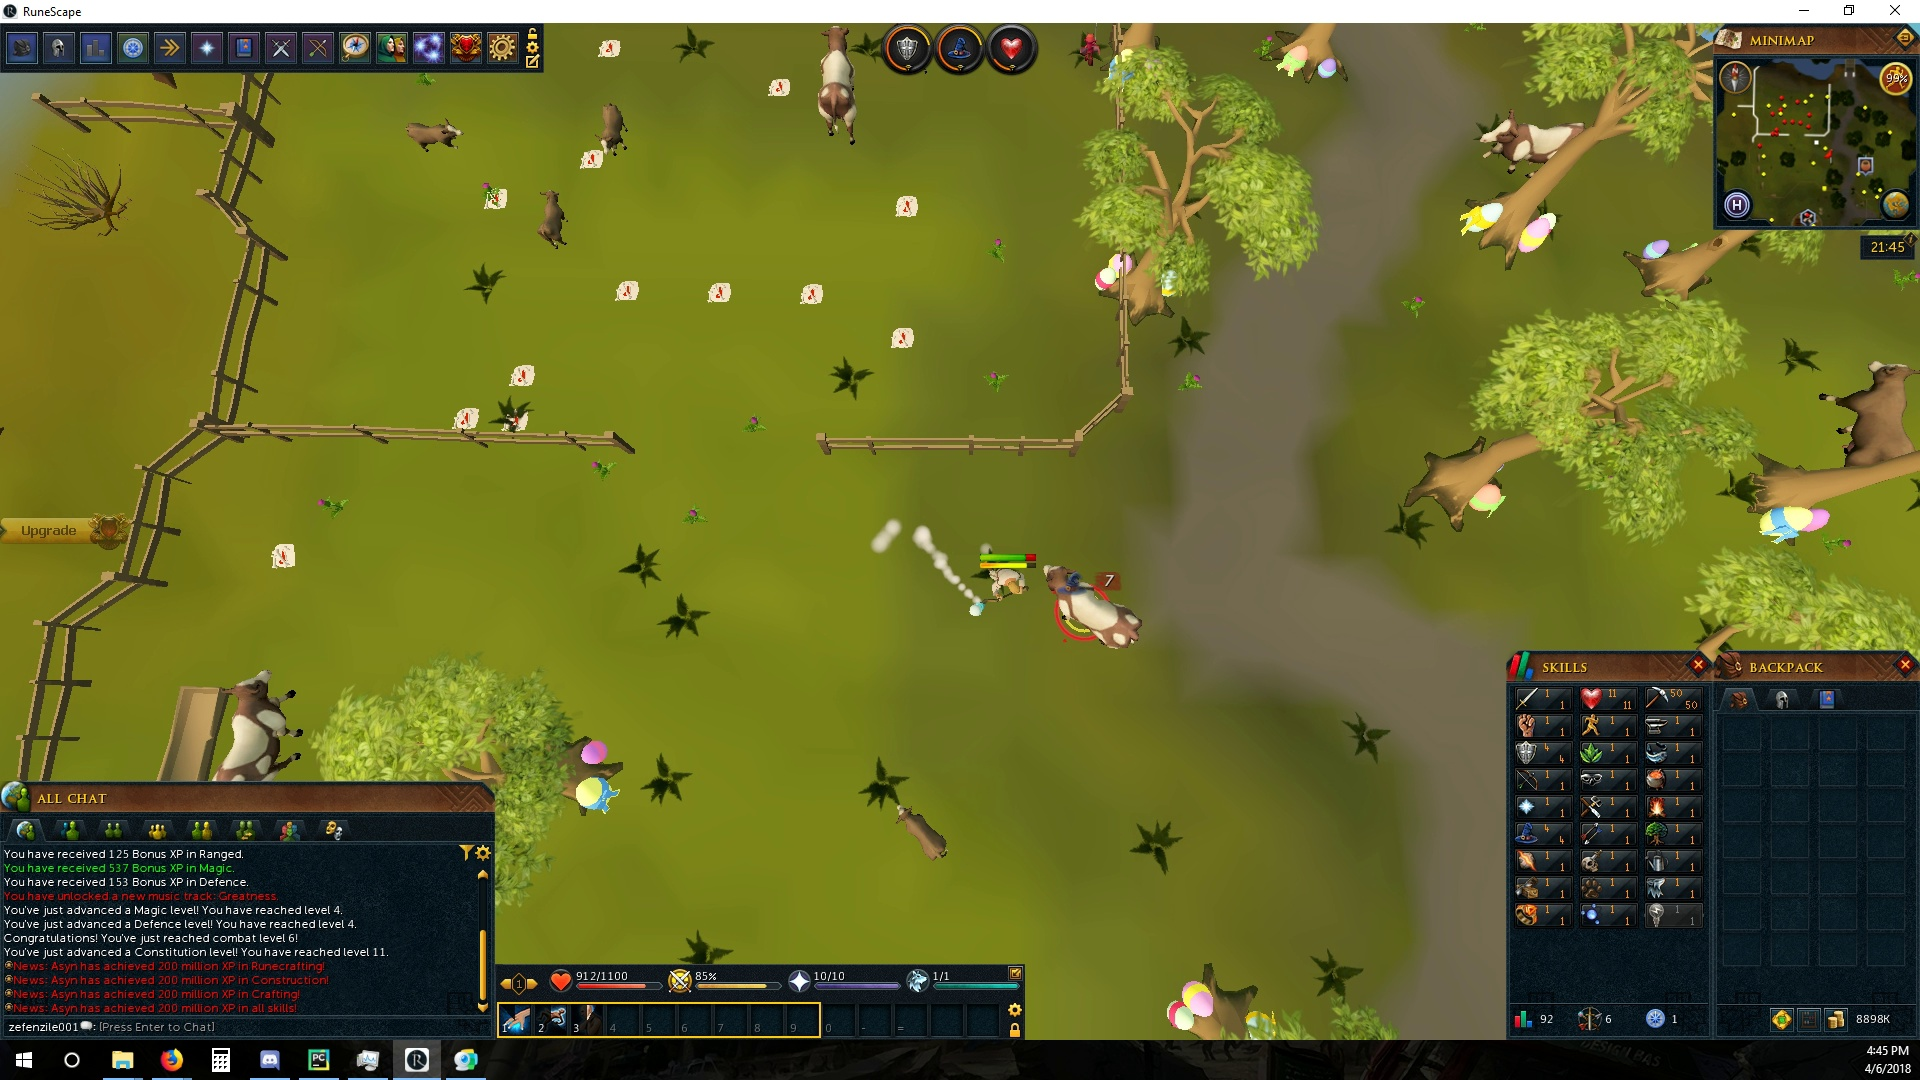calf: (890, 800, 953, 862), (591, 98, 632, 160), (537, 187, 574, 253), (402, 117, 465, 156)
cow: (204, 669, 306, 786), (1812, 357, 1920, 465), (1039, 560, 1150, 657), (1470, 105, 1594, 182), (814, 26, 865, 153)
cow_drop: (261, 539, 298, 571), (448, 401, 483, 429), (505, 361, 535, 392), (575, 148, 608, 175), (496, 406, 531, 431), (702, 280, 737, 305), (798, 281, 827, 309), (481, 186, 512, 212), (767, 74, 794, 102), (886, 326, 916, 348), (613, 280, 644, 301), (894, 191, 918, 218), (597, 37, 622, 57)
